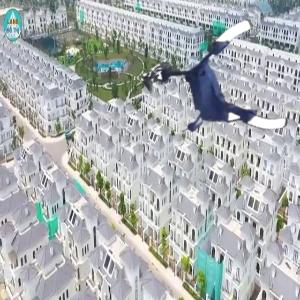drone: (164, 32, 289, 157)
